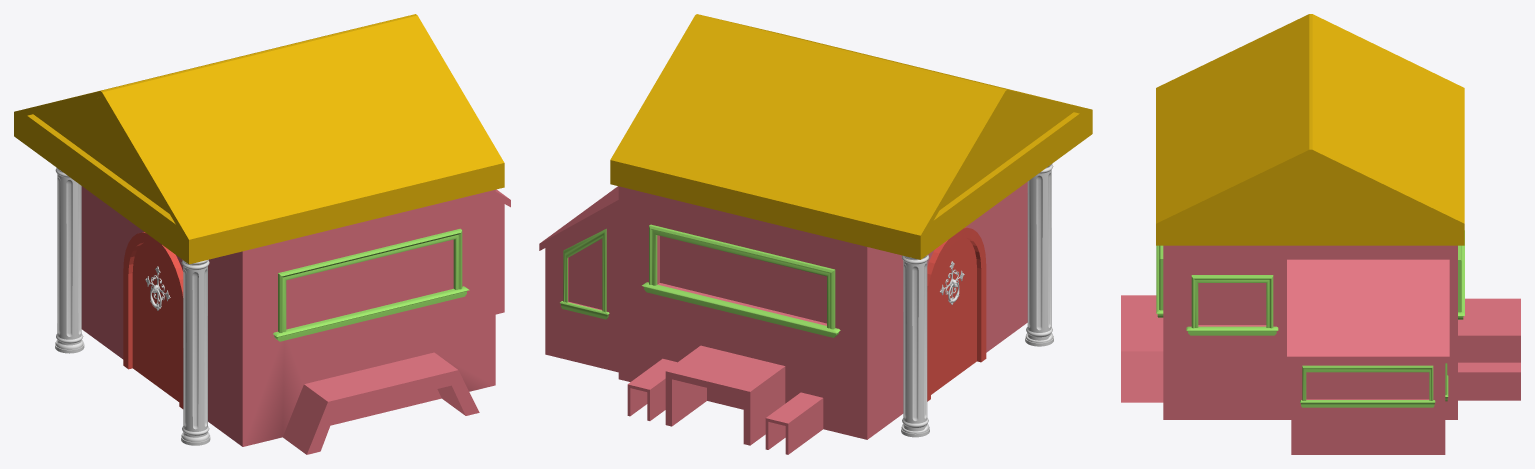
The model's file is casa3.fbx.
The picture shows the model from 3 angles, left to right: view 1: azimuth 30°, elevation 25°; view 2: azimuth 150°, elevation 25°; view 3: azimuth 270°, elevation 25°; orthographic projection. The views are drawn at different scales.
Parts seen in each view (by area): view 1: tejado.002, casa3, puerta_casa3, ventanas.003, ColumnaCasa3.001, ColumnaCasa3; view 2: tejado.002, casa3, puerta_casa3, ventanas.003, ColumnaCasa3, ColumnaCasa3.001; view 3: casa3, tejado.002, ventanas.003.
Part boxes in pixels (bbox=[...]): tejado.002: bbox=[14, 14, 504, 264]; casa3: bbox=[81, 186, 510, 454]; puerta_casa3: bbox=[123, 232, 183, 408]; ventanas.003: bbox=[273, 228, 469, 341]; ColumnaCasa3.001: bbox=[181, 259, 210, 445]; ColumnaCasa3: bbox=[55, 167, 84, 353]; tejado.002: bbox=[610, 14, 1092, 259]; casa3: bbox=[539, 182, 1027, 454]; puerta_casa3: bbox=[927, 227, 986, 401]; ventanas.003: bbox=[560, 224, 840, 337]; ColumnaCasa3: bbox=[901, 254, 929, 437]; ColumnaCasa3.001: bbox=[1025, 163, 1053, 346]; casa3: bbox=[1121, 245, 1520, 454]; tejado.002: bbox=[1156, 14, 1464, 245]; ventanas.003: bbox=[1156, 230, 1464, 407].
Size of the model in its own units: 748 by 556 by 741.
